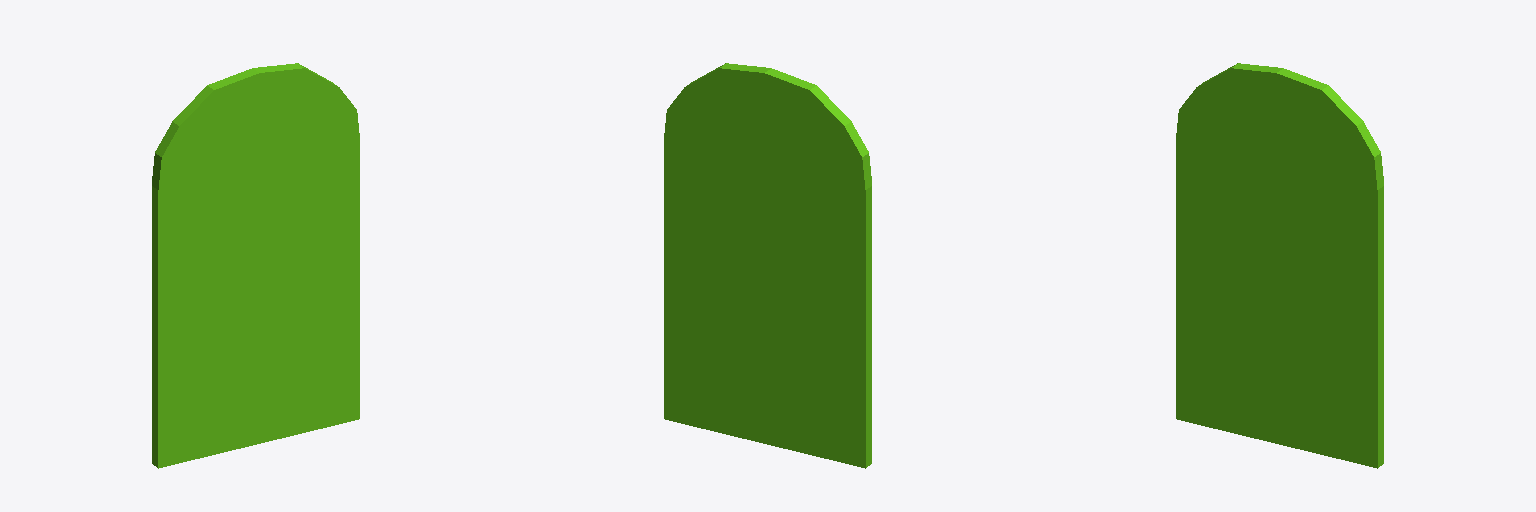
3 renders of one model, left to right at view 1: azimuth 30°, elevation 25°; view 2: azimuth 150°, elevation 25°; view 3: azimuth 330°, elevation 25°, orthographic.
Visible parts, largest first — view 1: pasted__pCube335 group1; view 2: pasted__pCube335 group1; view 3: pasted__pCube335 group1.
Part boxes in pixels (x1,y1,x2,y2): pasted__pCube335 group1: (152, 63, 359, 468); pasted__pCube335 group1: (664, 63, 871, 468); pasted__pCube335 group1: (1176, 63, 1383, 468).
Bounding box in the file's own units: 1.9 × 3.33 × 0.1122.
1 materials, 1 textured.